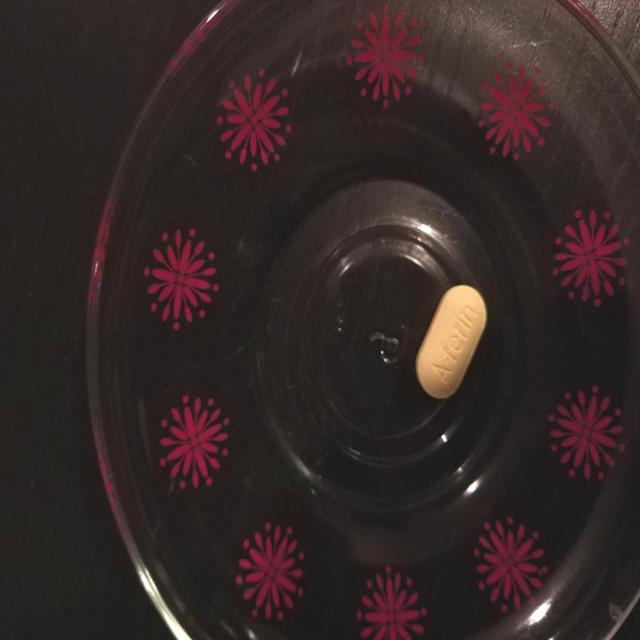pill: (414, 276, 487, 402)
